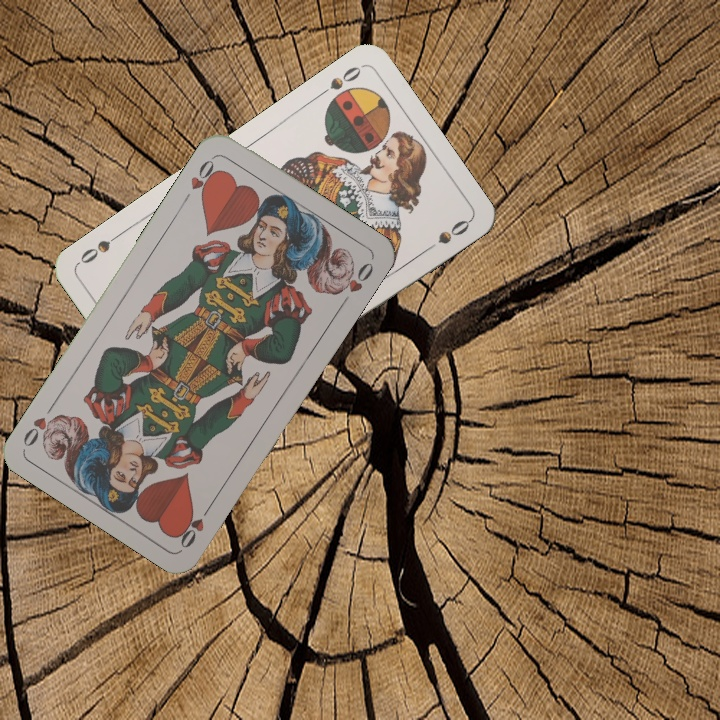HO: (179, 153, 222, 206), (174, 499, 216, 551)
SO: (313, 62, 365, 100)
